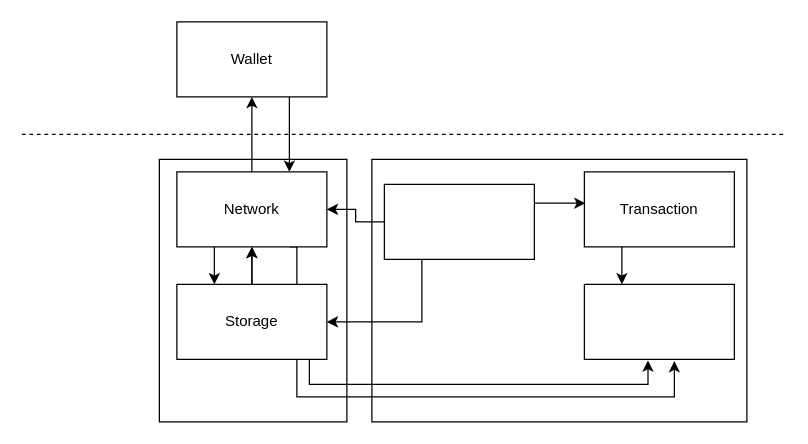
Image size: 808x444. Some labels were removed from this diagram. Here are the shapes that lost their labels. From the top down, the centre of each, then its label:
pixel 458 221: Data
pixel 658 321: Mining
